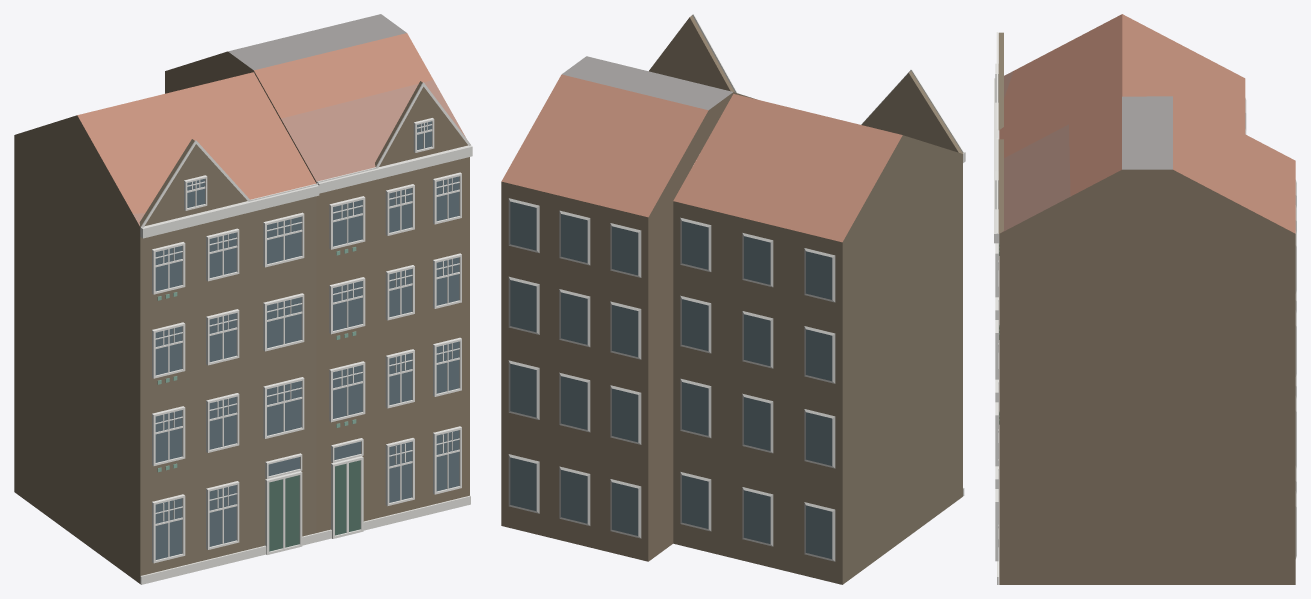
File: chunk-face-heije-41-53-r1.glb
3 renders of one model, left to right at view 1: azimuth 30°, elevation 25°; view 2: azimuth 150°, elevation 25°; view 3: azimuth 270°, elevation 25°, orthographic. The views are drawn at different scales.
Parts seen in each view (by area): view 1: face-heije-41-53-r1; view 2: face-heije-41-53-r1; view 3: face-heije-41-53-r1.
Part boxes in pixels (bbox=[...]): face-heije-41-53-r1: bbox=[14, 14, 472, 584]; face-heije-41-53-r1: bbox=[501, 14, 965, 584]; face-heije-41-53-r1: bbox=[994, 14, 1296, 584].
Size of the model in its own units: 12.54 by 15.74 by 10.2.
